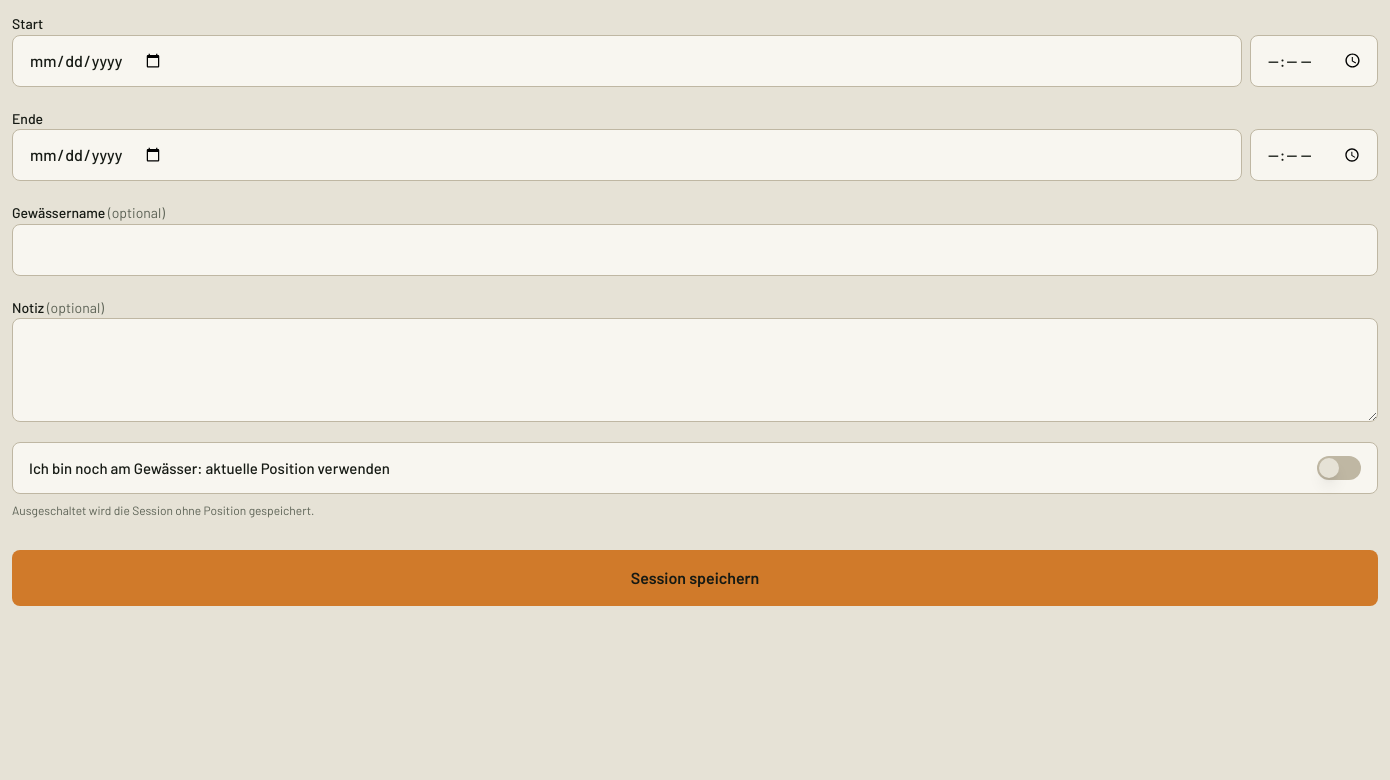
Scenario: SessionBackfillForm › puts server field errors at the field and the overlap as the notice, keeping the input (AC-15, AC-16)
Type "2026-09-12" into the date field named "Start: Datum" at (627, 60), box [12,34,1242,86]
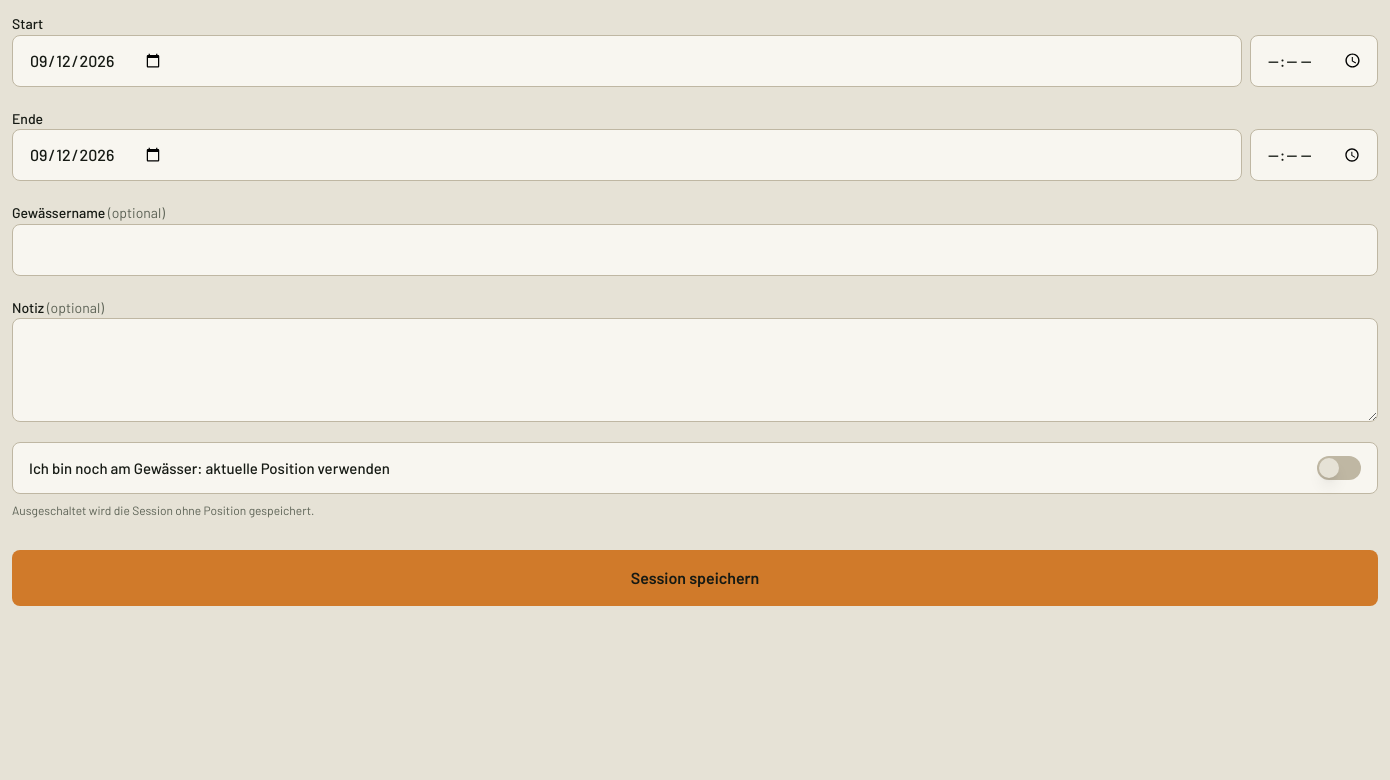
Type "16:00" into the time field named "Start: Uhrzeit" at (1314, 60), box [1250,34,1378,86]
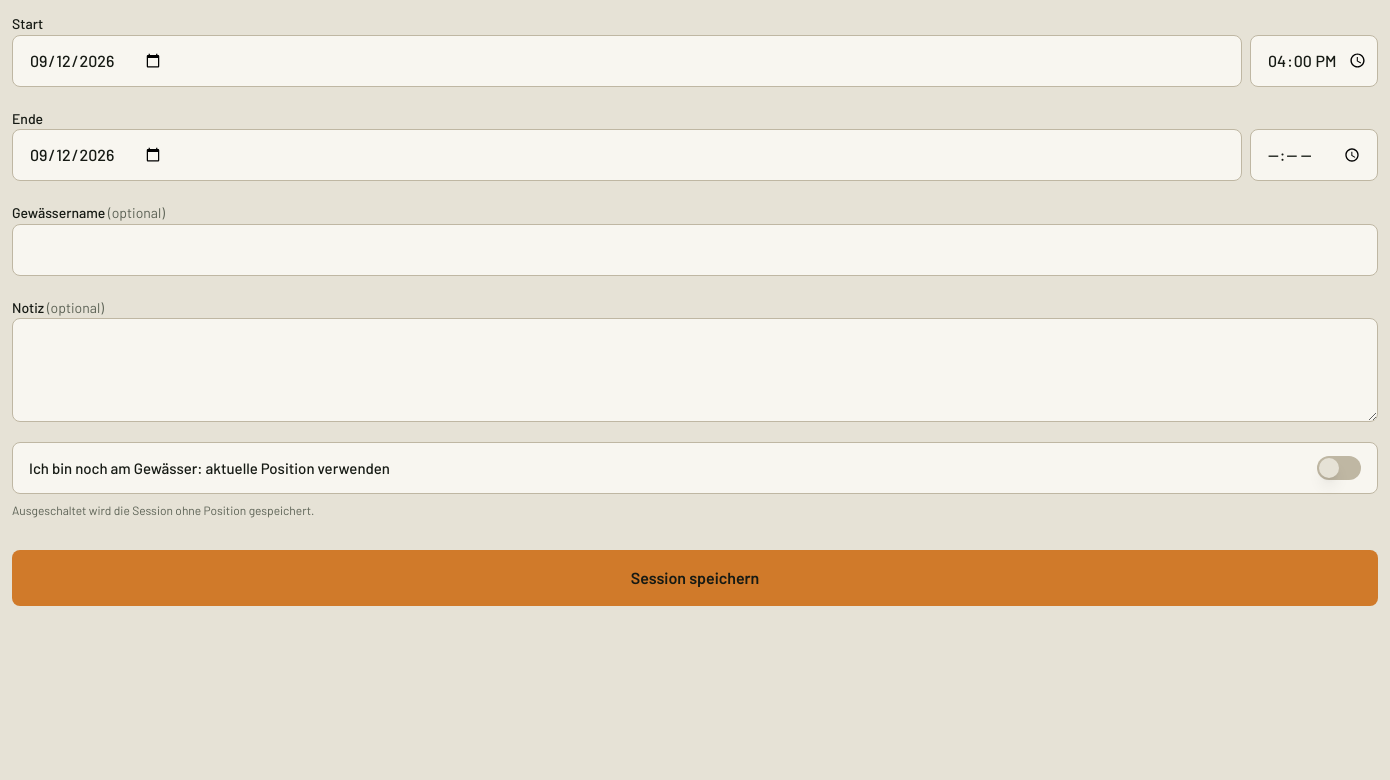
Type "20:00" into the time field named "Ende: Uhrzeit" at (1314, 155), box [1250,129,1378,181]
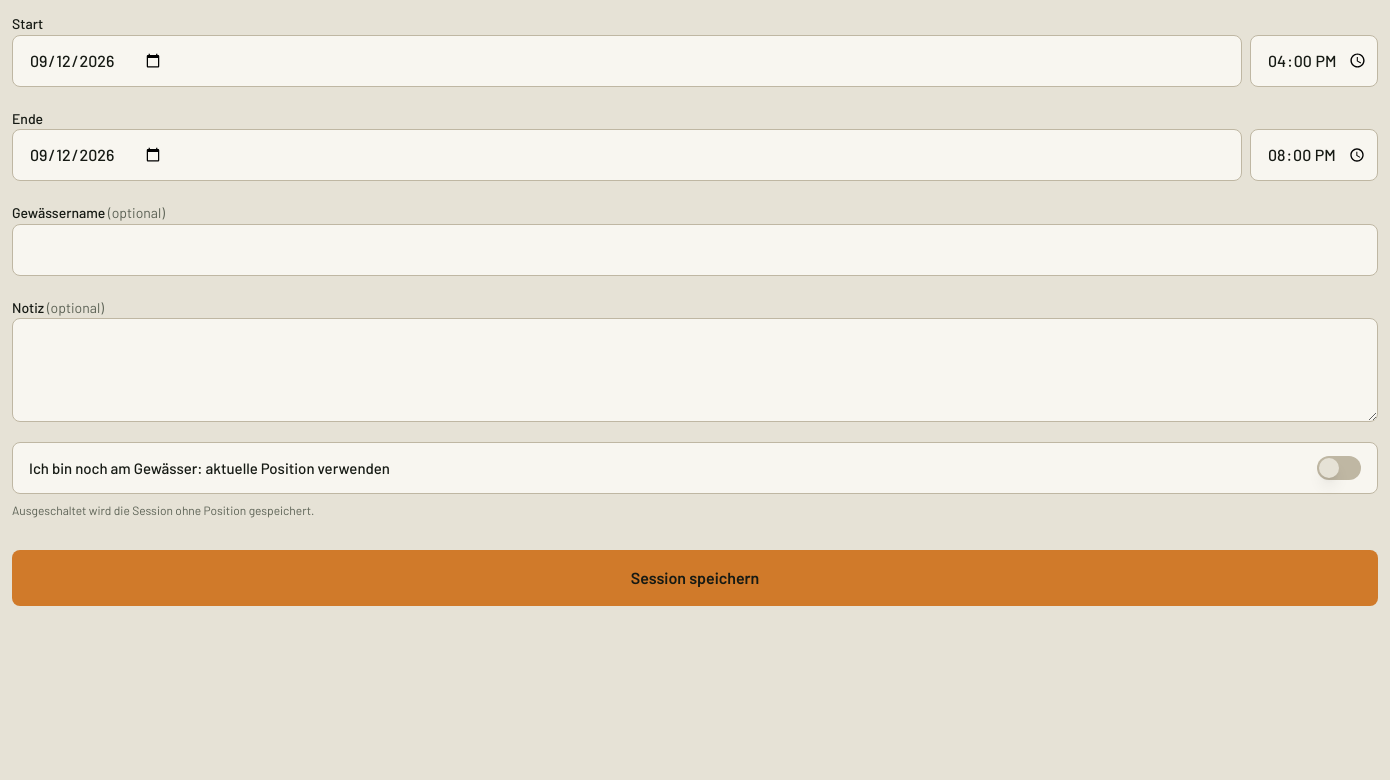
Click the button "Session speichern" at (695, 578), box [12,550,1378,606]
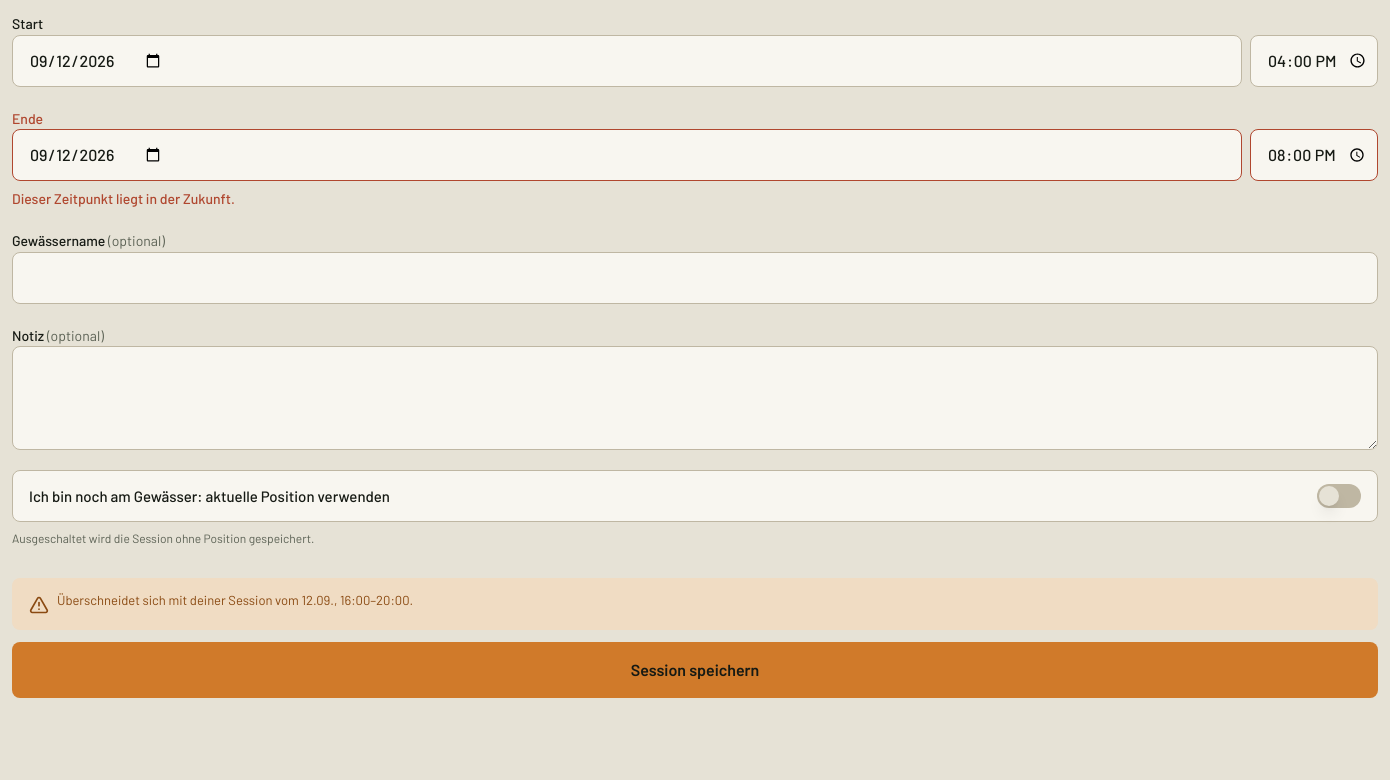
Expected: the text "Dieser Zeitpunkt liegt in der Zukunft." is shown, [12,190,235,207]
Expected: the message reads "Überschneidet sich mit deiner Session vom 12.09., 16:00–20:00.", [57,592,413,608]
